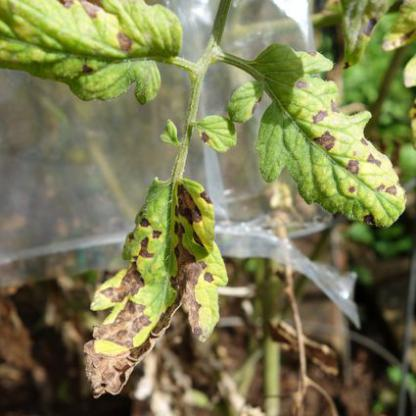tomato septoria leaf spot: (75, 171, 227, 412), (231, 40, 412, 234), (1, 1, 190, 106)
